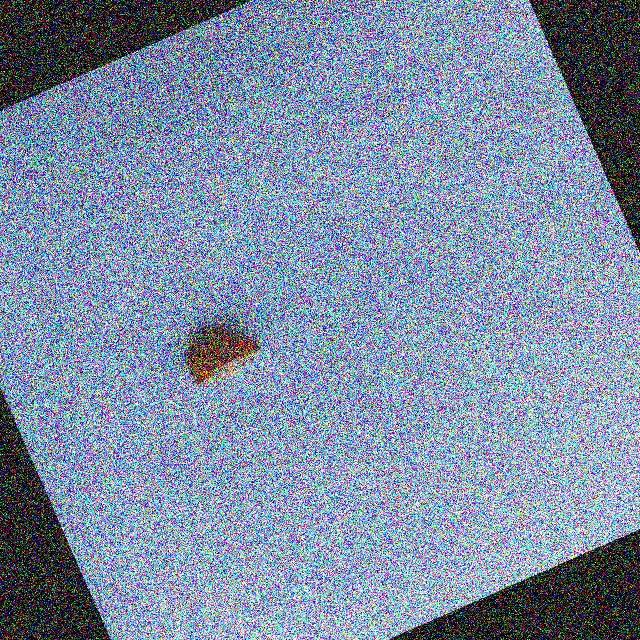grade4: (168, 305, 276, 398)
